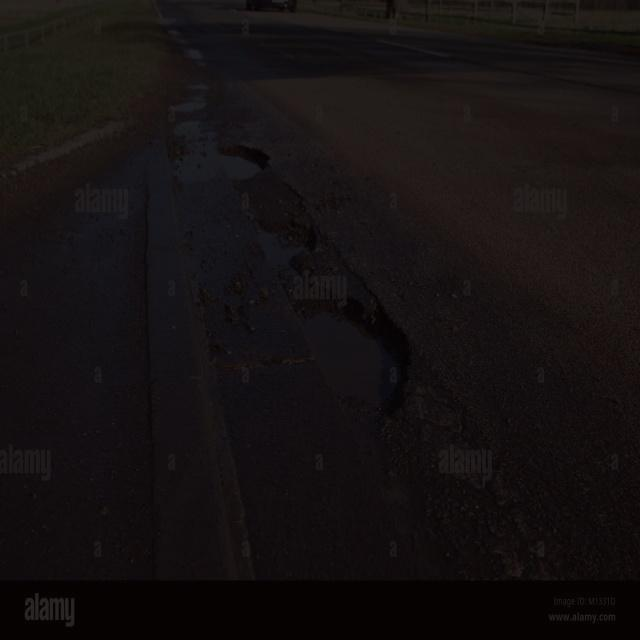Pothole: (284, 285, 422, 435), (245, 209, 325, 273), (208, 134, 278, 194)
